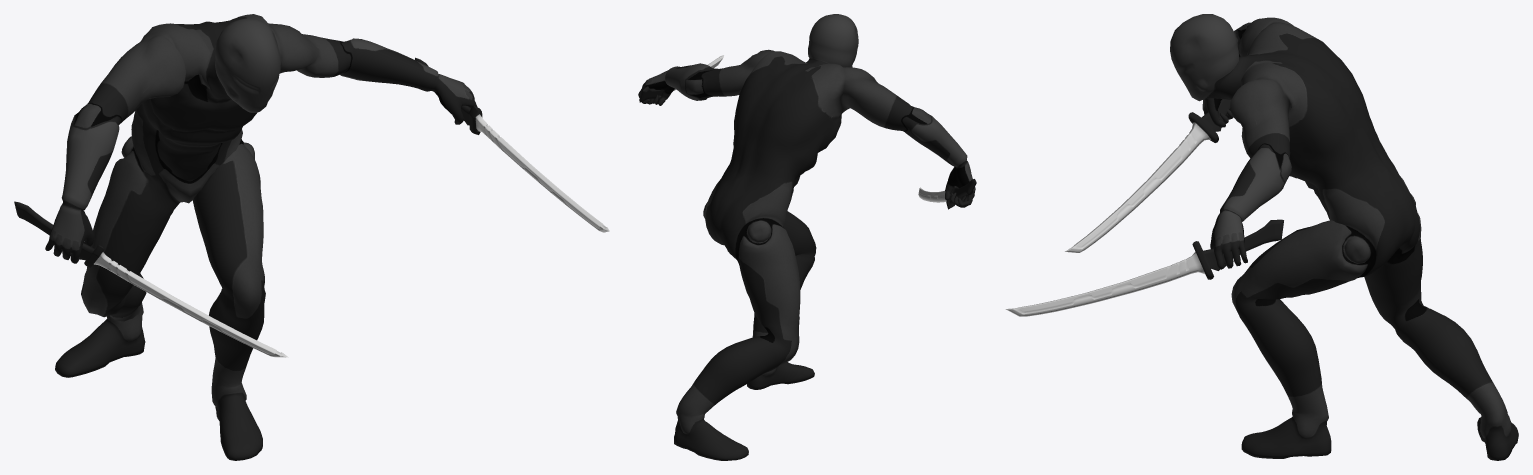
3 views of the same model, side by side, from view 1: azimuth 30°, elevation 25°; view 2: azimuth 150°, elevation 25°; view 3: azimuth 270°, elevation 25° (orthographic). The views are drawn at different scales.
Parts seen in each view (by area): view 1: Cyborg_Ninja_Killer, Sword_l001, Sword_l; view 2: Cyborg_Ninja_Killer, Sword_l001, Sword_l; view 3: Cyborg_Ninja_Killer, Sword_l, Sword_l001.
Boxes of the visible parts, left/top/right/bottom form: Cyborg_Ninja_Killer: left=45, top=14, right=477, bottom=460; Sword_l001: left=14, top=201, right=288, bottom=357; Sword_l: left=415, top=57, right=609, bottom=232; Cyborg_Ninja_Killer: left=638, top=14, right=975, bottom=460; Sword_l001: left=918, top=179, right=976, bottom=209; Sword_l: left=639, top=55, right=723, bottom=104; Cyborg_Ninja_Killer: left=1170, top=14, right=1518, bottom=460; Sword_l: left=1005, top=219, right=1283, bottom=316; Sword_l001: left=1065, top=99, right=1230, bottom=252.
Bounding box in the file's own units: 152 × 142 × 156.
Materials: 2 (2 with a texture image).
